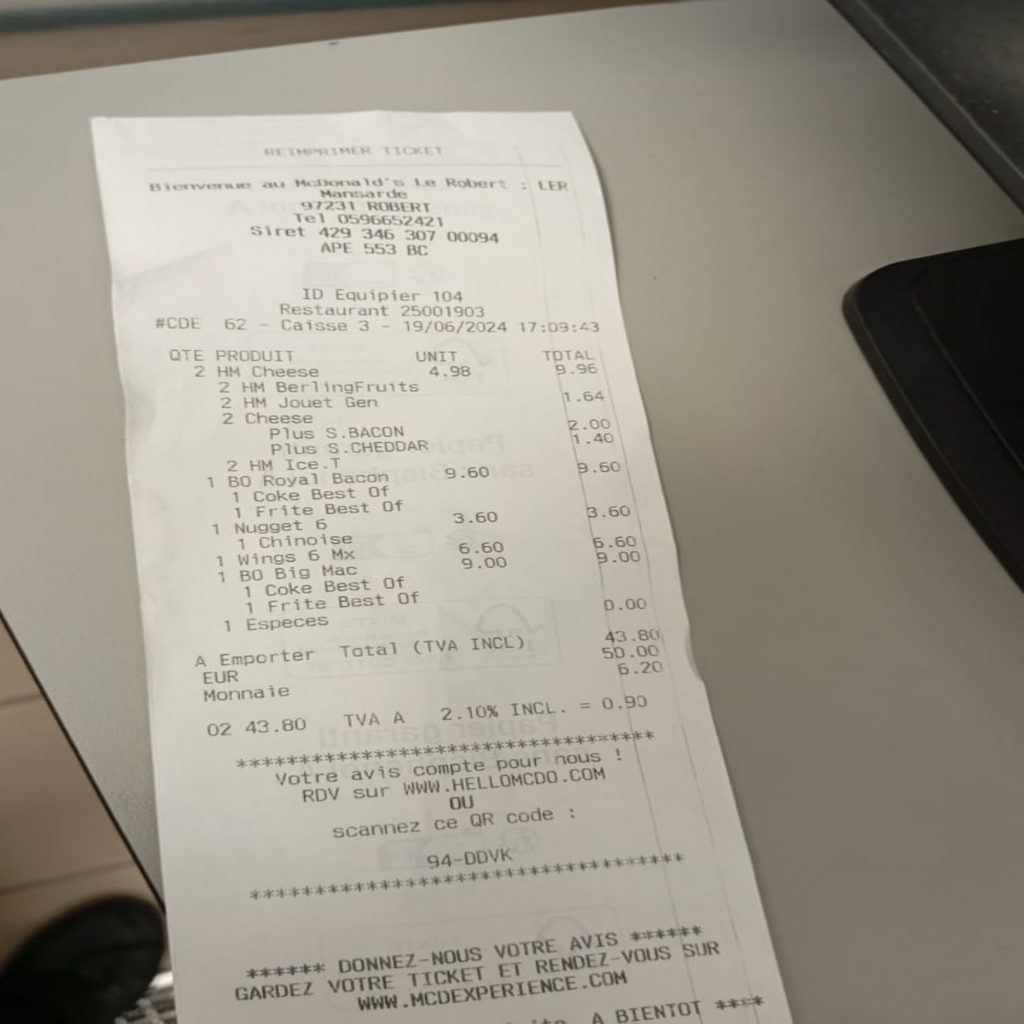recipt: (92, 109, 787, 1009)
